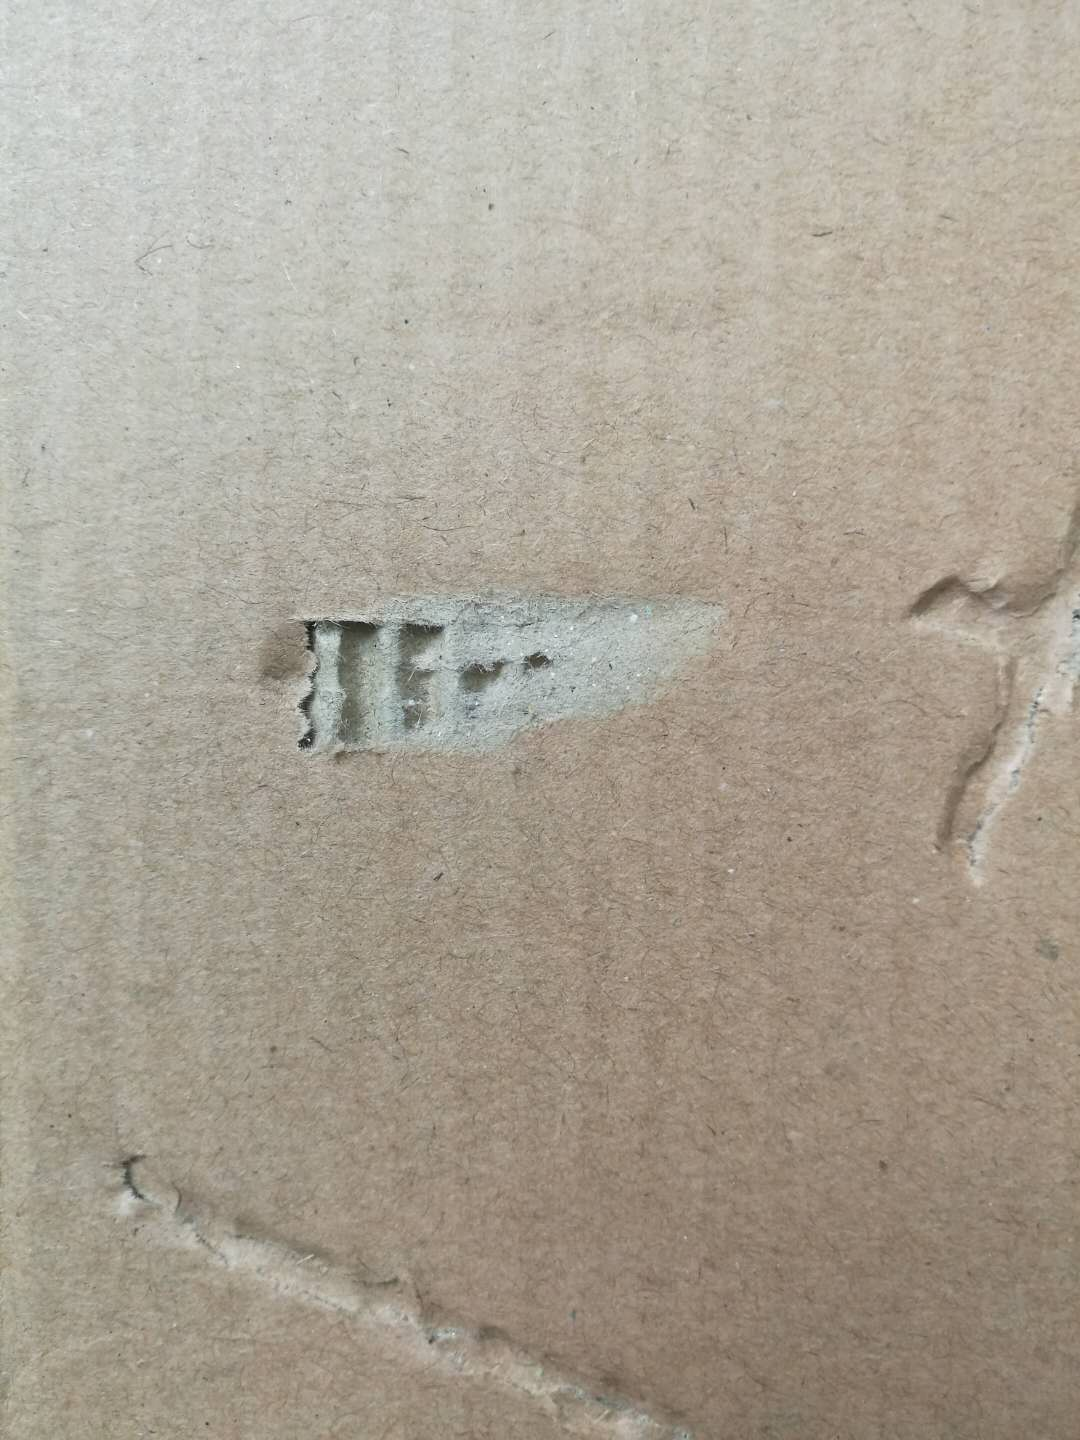defect: (79, 1125, 740, 1440), (229, 542, 774, 788), (885, 476, 1080, 890)
